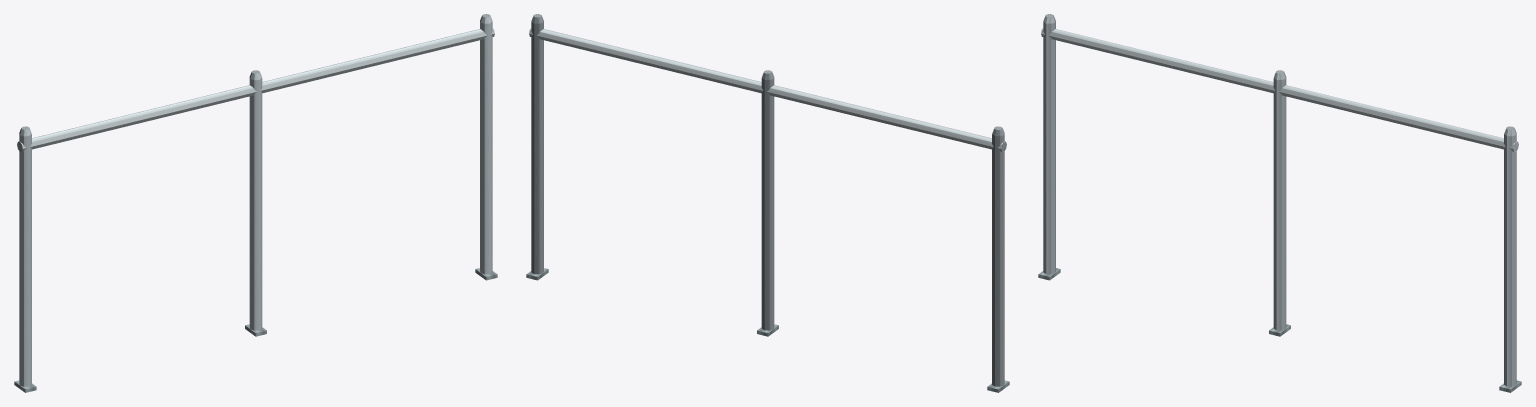
Rendered from pool_guardrail_straight.glb.
3 renders of one model, left to right at view 1: azimuth 30°, elevation 25°; view 2: azimuth 150°, elevation 25°; view 3: azimuth 330°, elevation 25°, orthographic.
Visible parts, largest first — view 1: core_pool_guardrail_straight; view 2: core_pool_guardrail_straight; view 3: core_pool_guardrail_straight.
Part boxes in pixels (<box>): core_pool_guardrail_straight: <box>14,14,497,392</box>; core_pool_guardrail_straight: <box>526,14,1009,392</box>; core_pool_guardrail_straight: <box>1038,14,1521,392</box>.
Bounding box in the file's own units: 2 × 1.05 × 0.08.
1 material, 1 textured.
